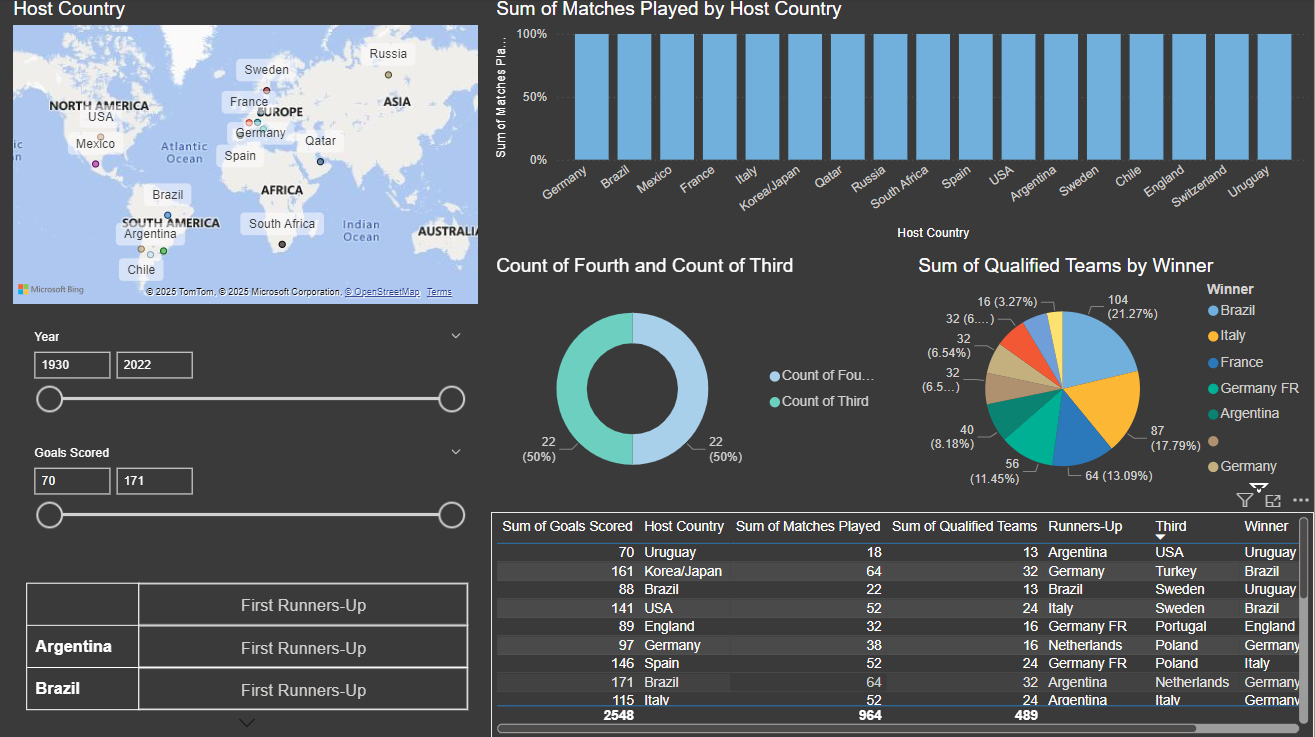

The page's visual inventory and layout, read from the dashboard file:
{"tool":"powerbi","page":{"name":"Page 1","canvas":[1280,720],"ordinal":0},"visuals":[{"type":"map","fields":{"Category":["world_cups.Host Country"]},"box":[9.7,0,462,303.5],"z":0},{"type":"slicer","fields":{"Values":["world_cups.Year"]},"box":[22.4,318.1,440.6,103.1],"z":1000},{"type":"hundredPercentStackedColumnChart","fields":{"Y":["Sum(world_cups.Matches Played)"],"Category":["world_cups.Host Country"]},"box":[479.5,0,800.5,240.2],"z":2000},{"type":"pieChart","fields":{"Y":["Sum(world_cups.Qualified Teams)"],"Category":["world_cups.Winner"]},"box":[890,250,390,239.3],"z":3000},{"type":"donutChart","fields":{"Y":["CountNonNull(world_cups.Fourth)","CountNonNull(world_cups.Third)"]},"box":[479.5,250,390,239.3],"z":4000},{"type":"slicer","fields":{"Values":["world_cups.Goals Scored"]},"box":[22.4,430.9,440.6,99.2],"z":5000},{"type":"cardVisual","fields":{"Data":["Min(world_cups.Runners-Up)"],"Rows":["world_cups.Runners-Up"]},"box":[22.4,543.7,440.6,176],"z":6000},{"type":"tableEx","fields":{"Values":["Sum(world_cups.Goals Scored)","world_cups.Host Country","Sum(world_cups.Matches Played)","Sum(world_cups.Qualified Teams)","world_cups.Runners-Up","world_cups.Third","world_cups.Winner","Sum(world_cups.Year)"]},"box":[479.5,499.9,800.5,219.8],"z":6001}]}

Visuals, with their boxes in screenshot pixels (x1, y1, x2, y2), scaled from the page's 1280x720 canvas onto the 1315x737 screenshot:
map - world_cups.Host Country: bbox(10, 0, 485, 311)
slicer - world_cups.Year: bbox(23, 326, 476, 431)
hundredPercentStackedColumnChart - Sum(world_cups.Matches Played) x world_cups.Host Country: bbox(493, 0, 1314, 246)
pieChart - Sum(world_cups.Qualified Teams) x world_cups.Winner: bbox(914, 256, 1314, 501)
donutChart - CountNonNull(world_cups.Fourth) x CountNonNull(world_cups.Third): bbox(493, 256, 893, 501)
slicer - world_cups.Goals Scored: bbox(23, 441, 476, 543)
cardVisual - Min(world_cups.Runners-Up) x world_cups.Runners-Up: bbox(23, 557, 476, 736)
tableEx - Sum(world_cups.Goals Scored) x world_cups.Host Country: bbox(493, 512, 1314, 736)
